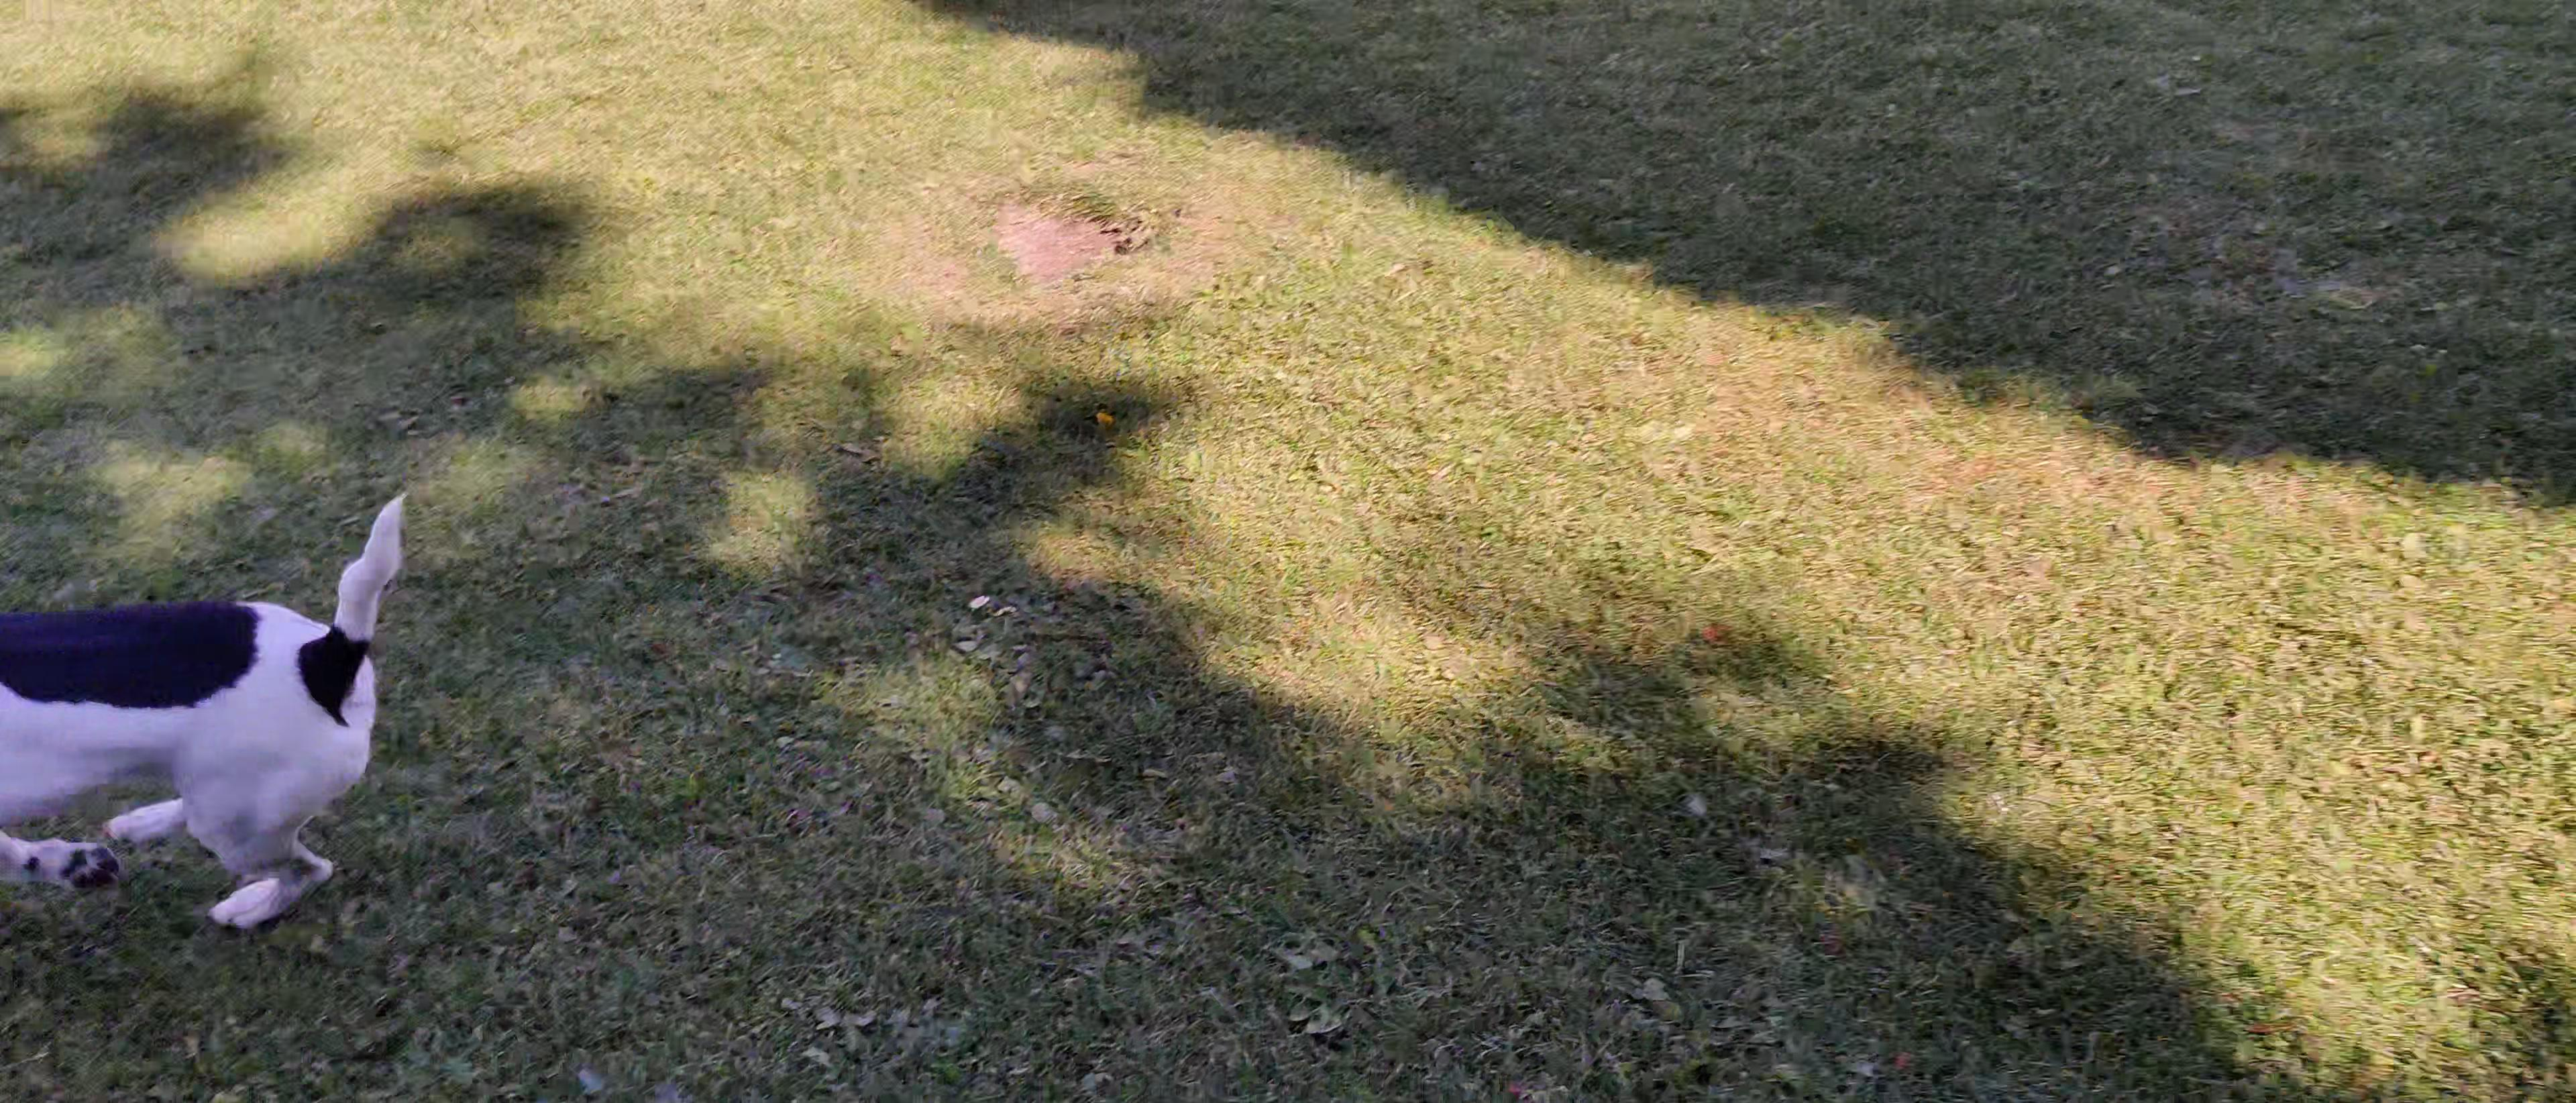Dog: (0, 487, 416, 930)
